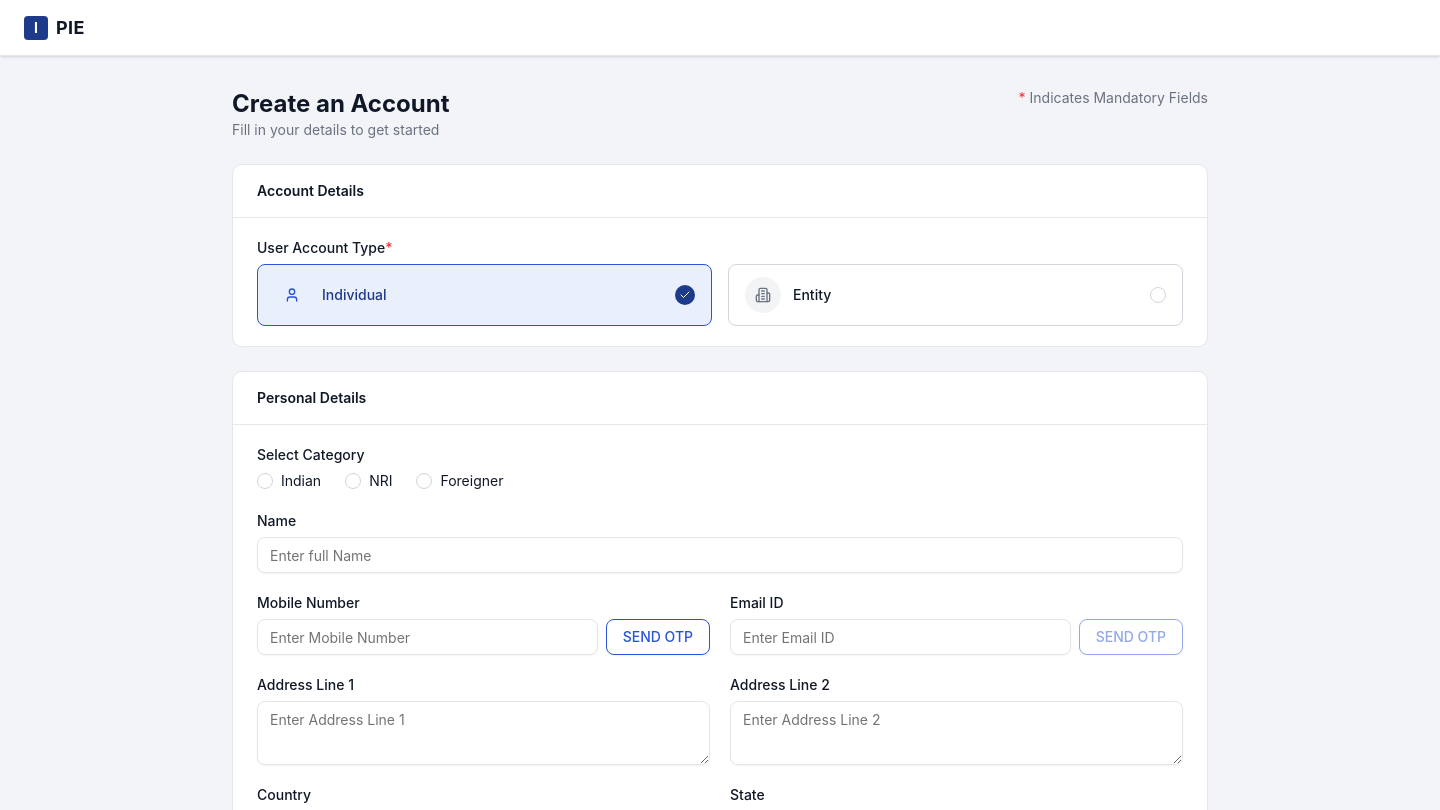
it: RegisterPage › shows the Entity-only sections once Entity is selected
Click the button "Entity" at (763, 295), box [728,264,1183,326]
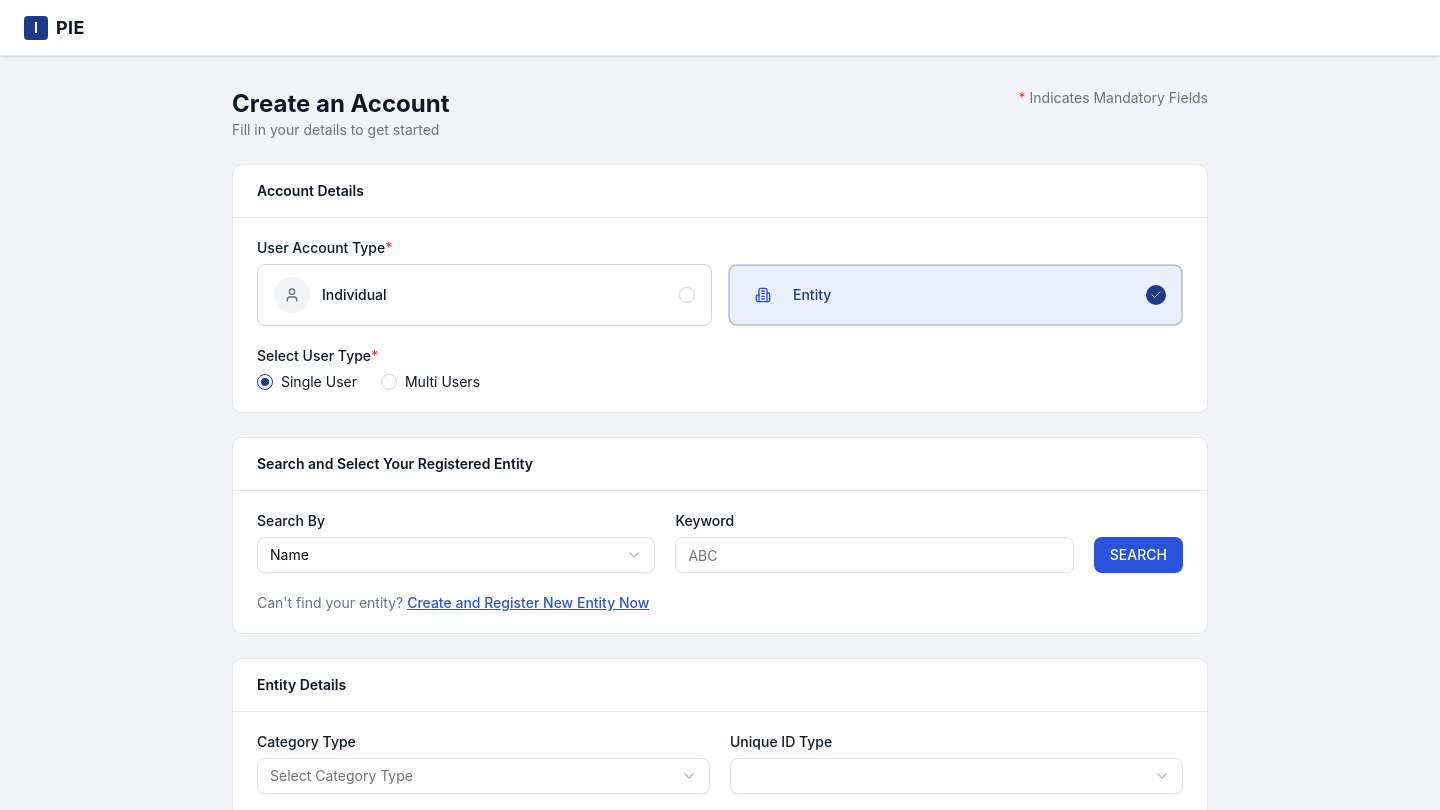
Expected: the heading "Search and Select Your Registered Entity" is shown, [257,455,533,472]
Expected: the heading "Entity Details" is shown, [257,676,346,693]
